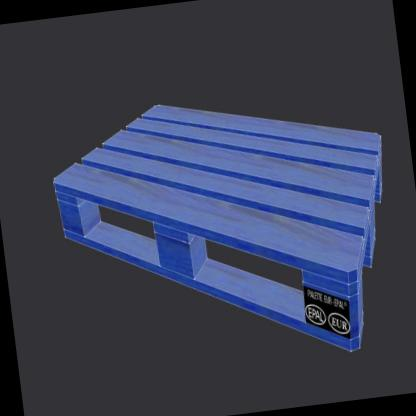BoxFace: (50, 102, 386, 356)
